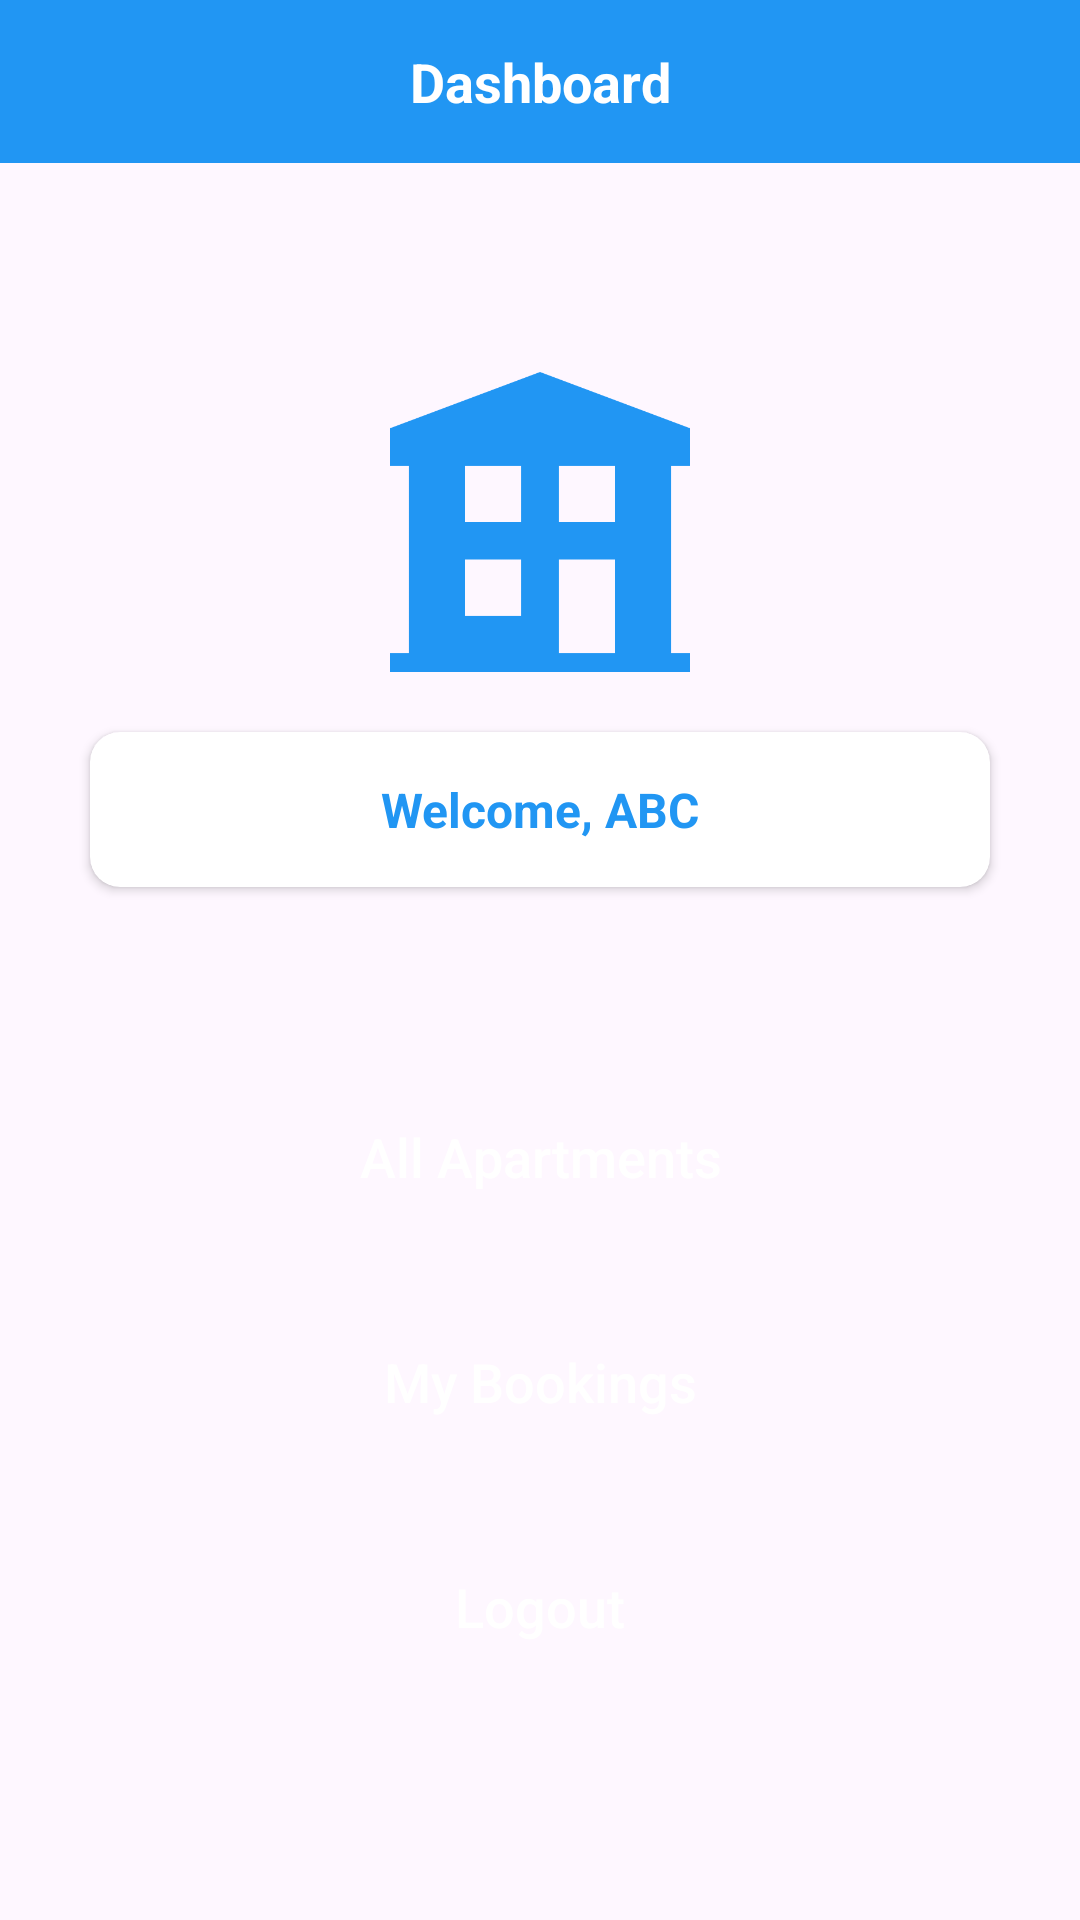

Where icons sit on this 1080 x 1920 app screen, as {"x1": x1, "y1": y1, "x2": x2, "y2": y2}:
apartment: {"x1": 390, "y1": 372, "x2": 690, "y2": 672}
